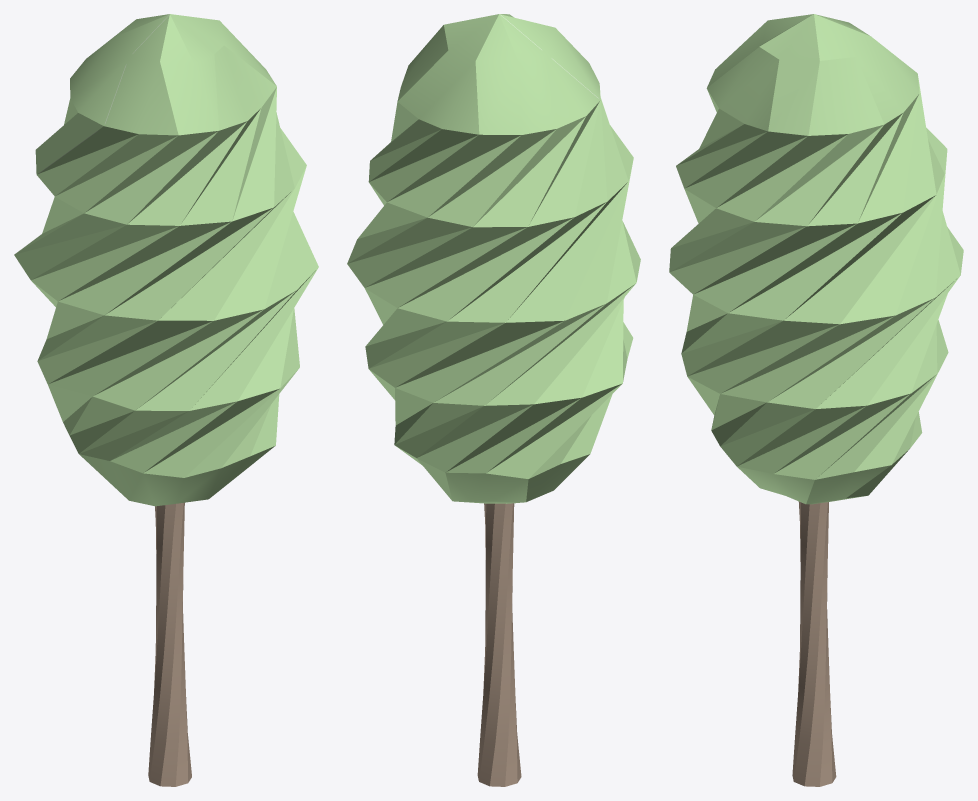
The model's file is lpt.obj.
3 renders of one model, left to right at view 1: azimuth 30°, elevation 25°; view 2: azimuth 150°, elevation 25°; view 3: azimuth 270°, elevation 25°, orthographic.
Parts seen in each view (by area): view 1: leaves, trunk; view 2: leaves, trunk; view 3: leaves, trunk.
Part boxes in pixels (box(x1,y1,x2,y2)): leaves: box(14, 14, 318, 506); trunk: box(148, 502, 191, 786); leaves: box(347, 14, 640, 503); trunk: box(477, 503, 521, 786); leaves: box(669, 14, 963, 504); trunk: box(792, 501, 836, 786).
Bounding box in the file's own units: 140 × 402 × 140.
2 materials, 2 textured.
